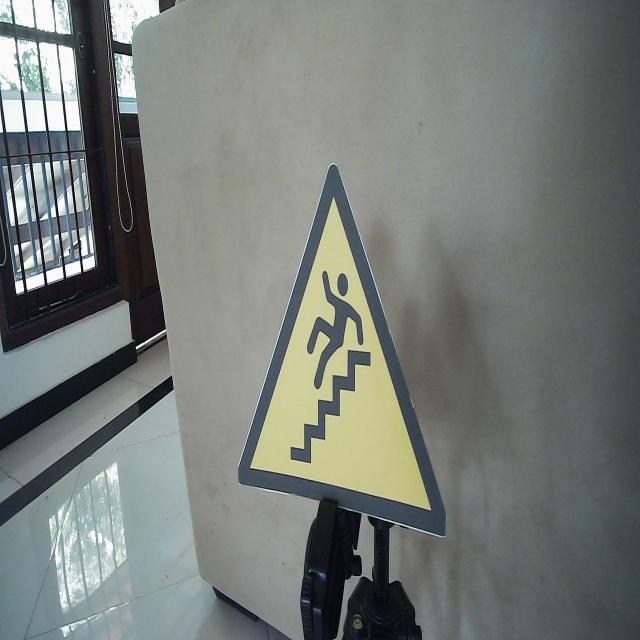stairs: (236, 159, 449, 541)
